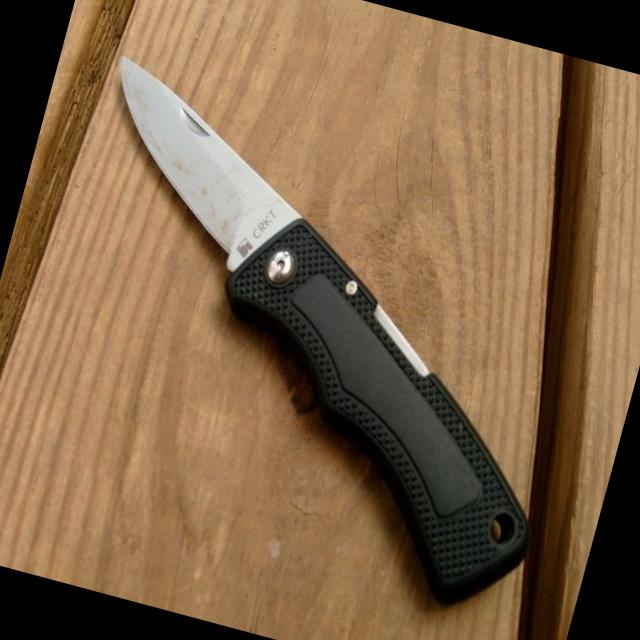Knife: (121, 59, 528, 602)
